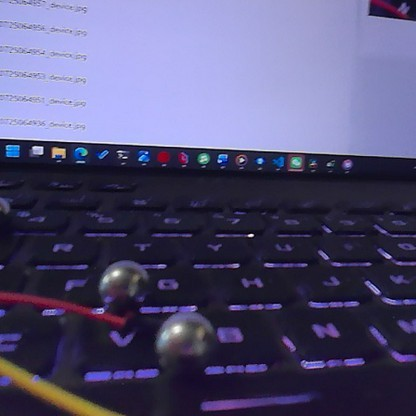ironball: (148, 308, 222, 376), (97, 257, 154, 314)
